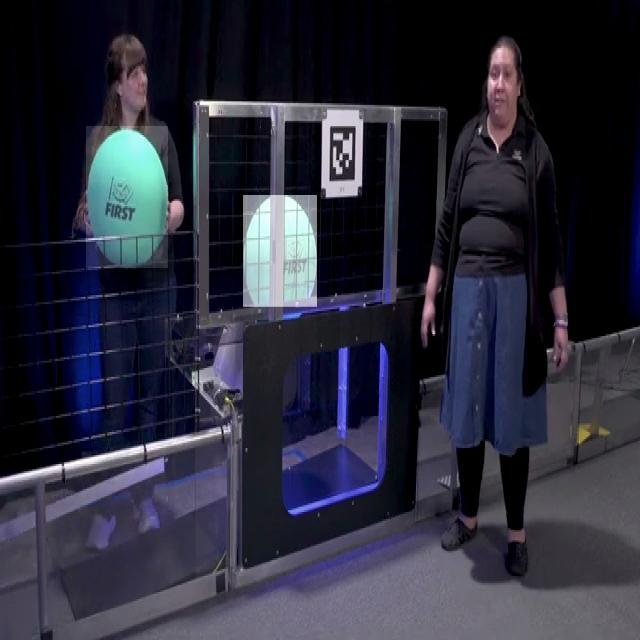Algae: (86, 126, 168, 268), (243, 195, 317, 308)
